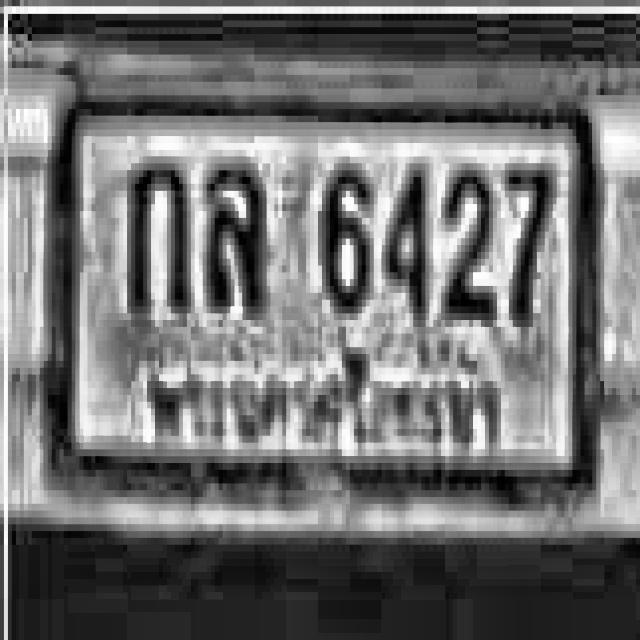license-plate: (37, 72, 618, 534)
